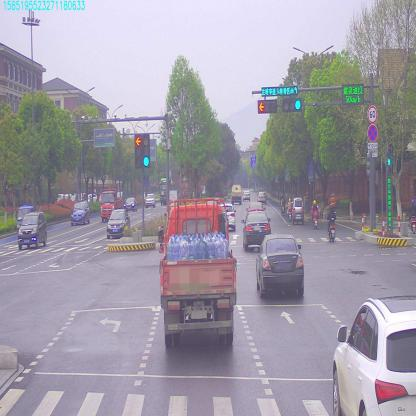traffic-light: (260, 87, 298, 95), (257, 100, 279, 112), (282, 99, 302, 112)
